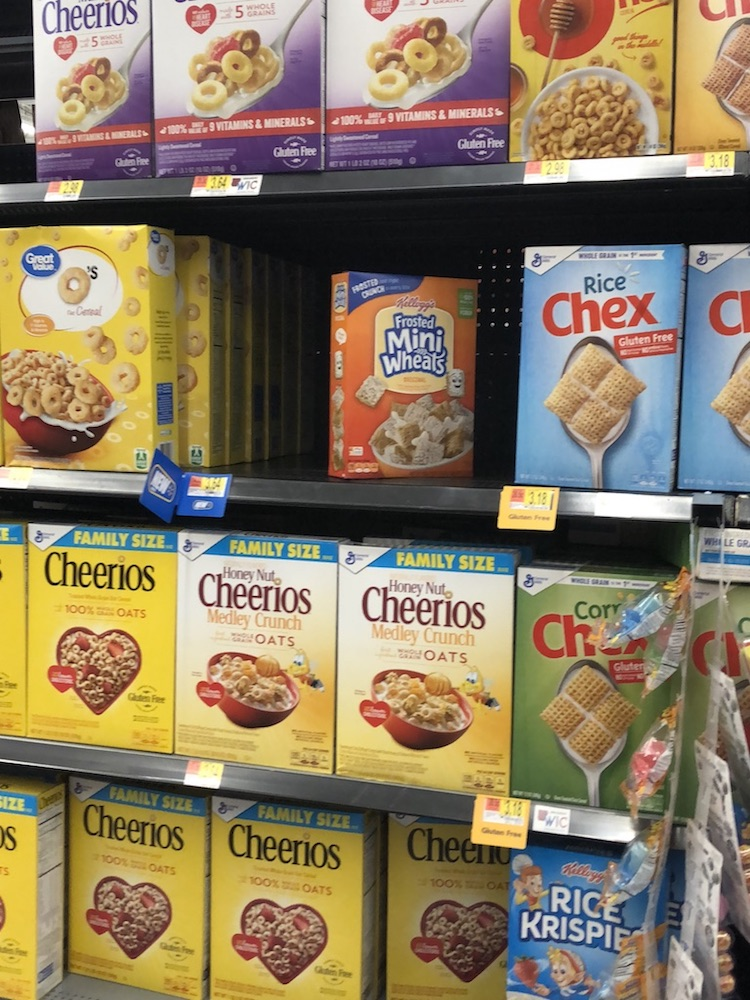Frosted Mini Original -9295869: (332, 274, 477, 470)
